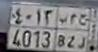0: (23, 12, 32, 48)
1: (34, 8, 41, 48)
3: (42, 8, 53, 50)
4: (13, 6, 22, 49)
B: (57, 16, 67, 48)
J: (78, 13, 88, 50)
Z: (67, 12, 78, 49)
